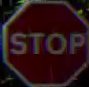Stop: (3, 1, 88, 86)
